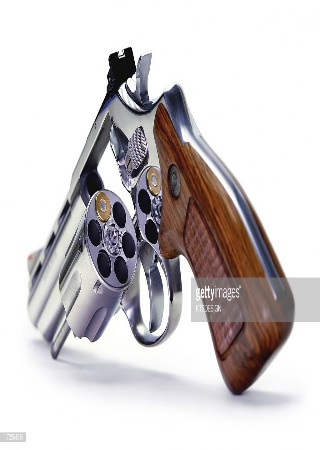handgun: (27, 44, 298, 396)
